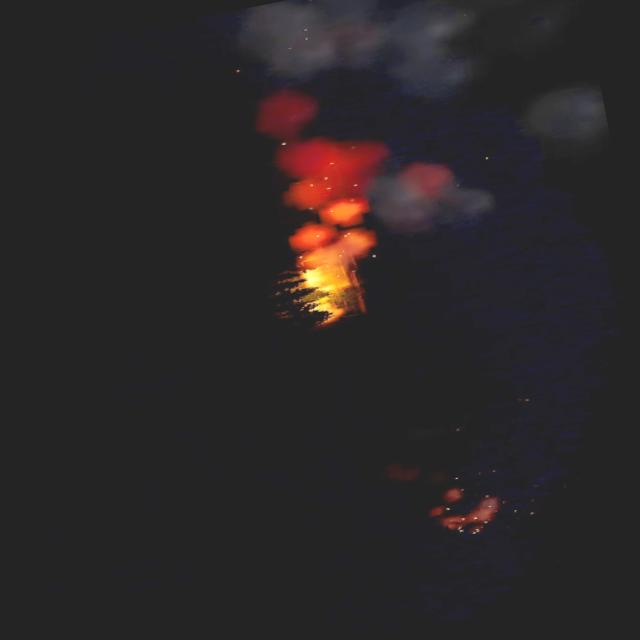fire: (286, 230, 384, 328), (432, 498, 502, 540)
smoke: (236, 0, 617, 273), (436, 488, 464, 509)
